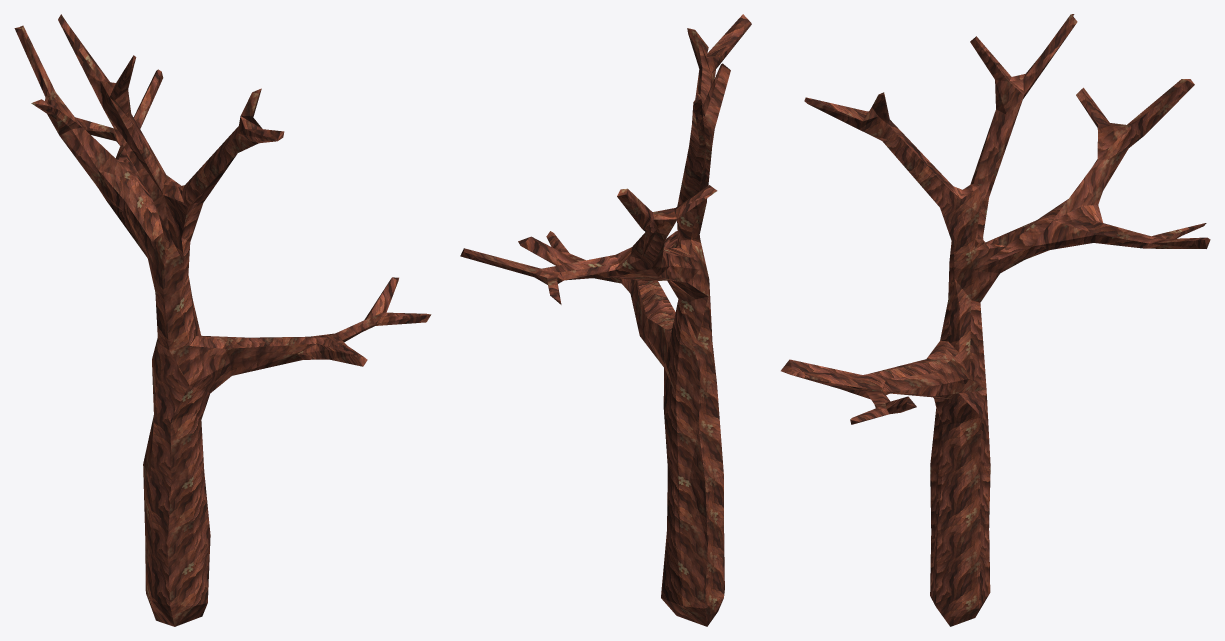
File: dtree_bare_4.glb
The picture shows the model from 3 angles, left to right: view 1: azimuth 30°, elevation 25°; view 2: azimuth 150°, elevation 25°; view 3: azimuth 270°, elevation 25°; orthographic projection.
Visible parts, largest first — view 1: model; view 2: model; view 3: model.
Boxes of the visible parts, x1,y1,x2,y2 form: model: [14, 14, 431, 626]; model: [460, 14, 751, 626]; model: [781, 14, 1210, 626].
Size of the model in its own units: 2.76 by 5.39 by 3.64.
1 material, 1 textured.
